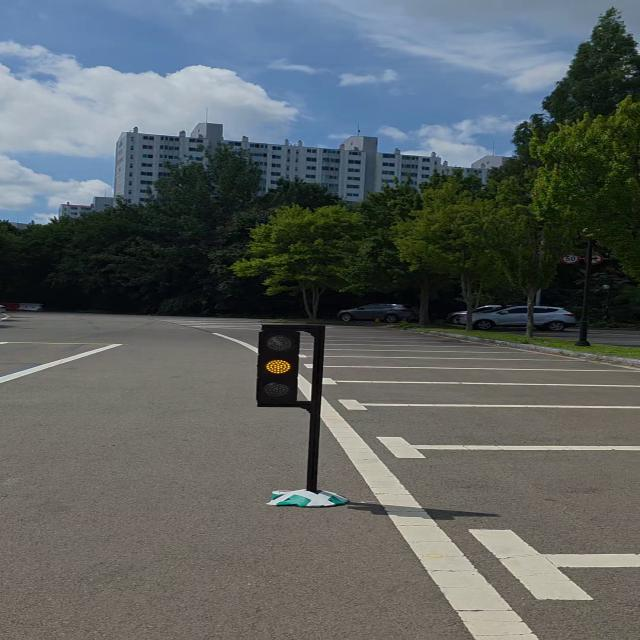yellow: (253, 322, 309, 410)
